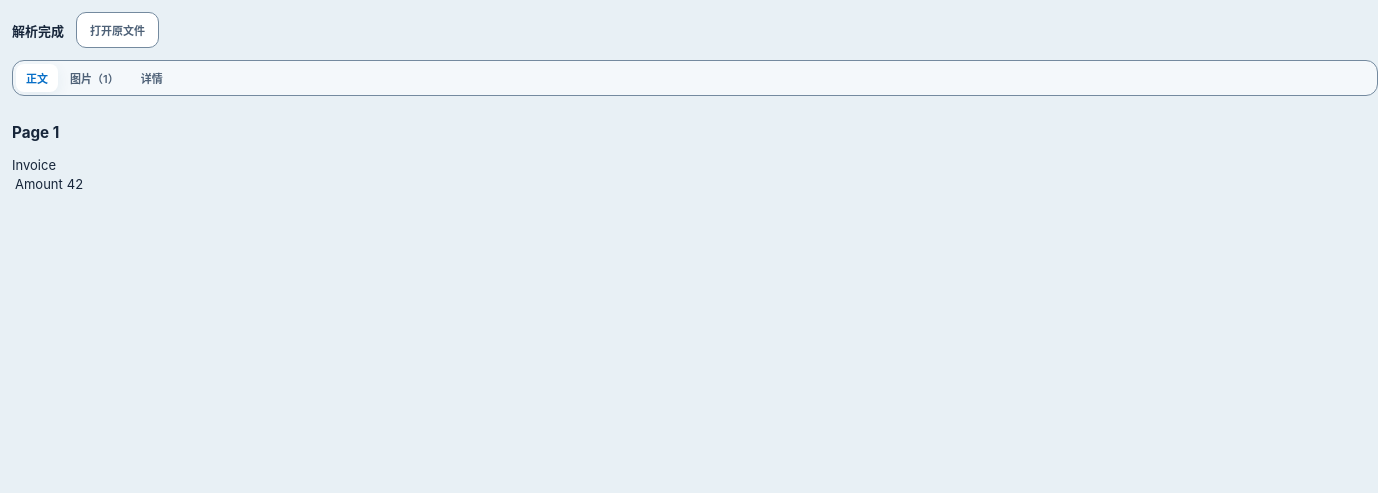
Test: renders OCR HTML tables and text without scripts, and keeps the result when its original is missing
This screenshot has width=1378, height=493.
Expected: the text "Invoice" is shown, top-left (12, 157), bottom-right (56, 173)
Expected: the table reads "Amount 42", top-left (12, 173), bottom-right (86, 195)
Step 1. Click the button "打开原文件" → (118, 30), box top-left (76, 12), bottom-right (159, 48)
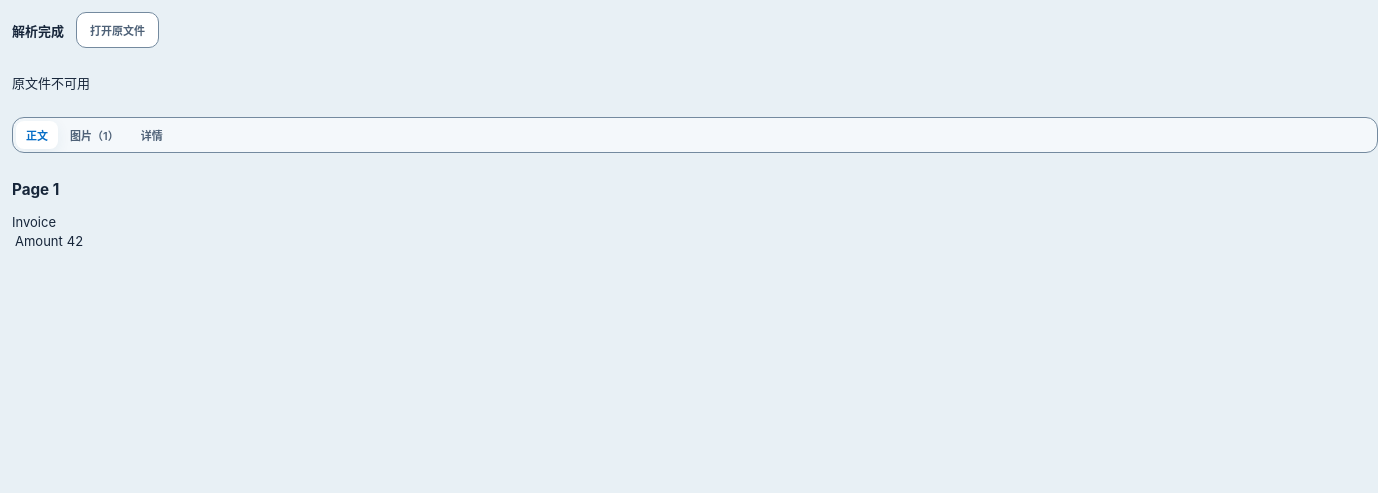
Expected: the table is shown, top-left (12, 230), bottom-right (86, 252)
Expected: the message reads "原文件不可用", top-left (12, 75), bottom-right (90, 91)
Step 2. Click the tab "详情" → (152, 135), box top-left (131, 121), bottom-right (173, 149)
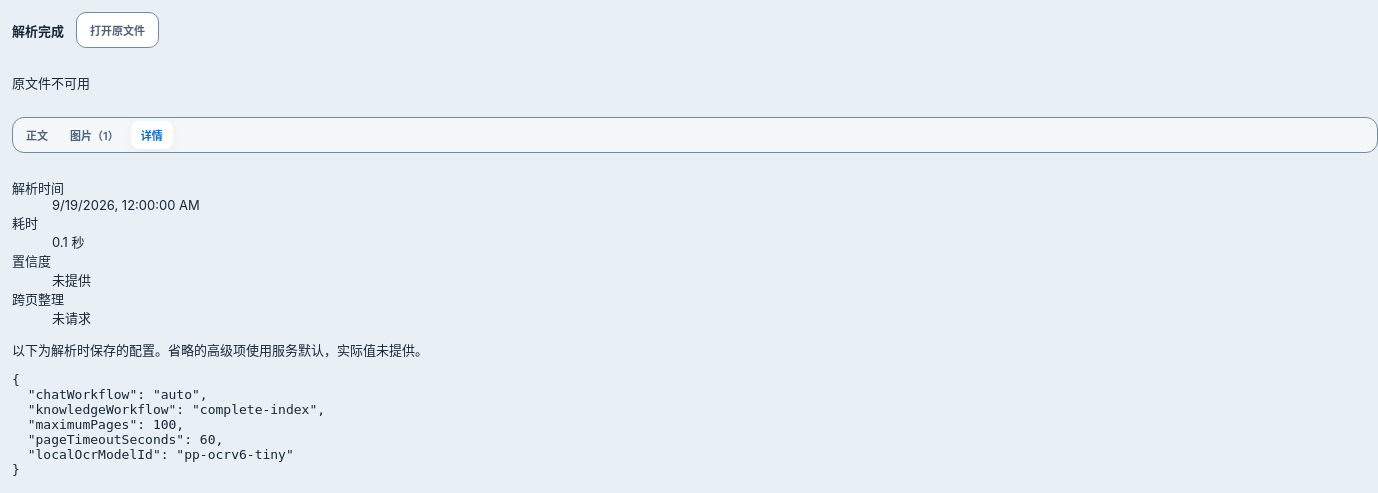
Expected: the text "未提供" is shown, top-left (52, 272), bottom-right (91, 288)
